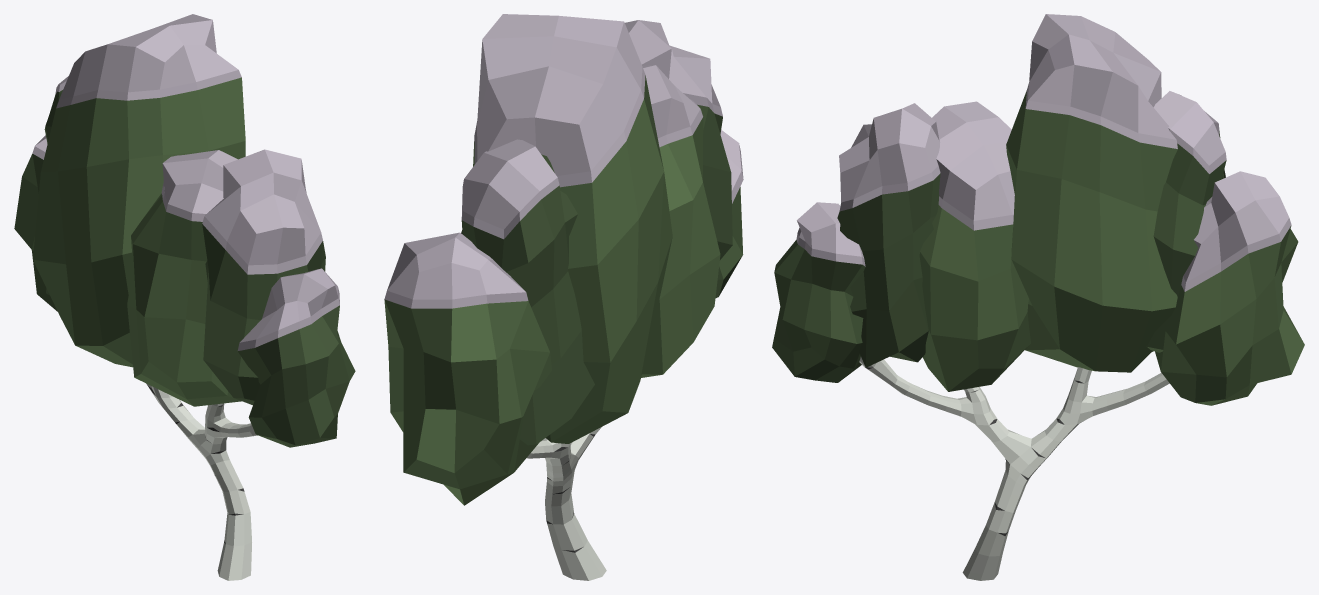
Rendered from birchtree_snow_4.glb.
3 renders of one model, left to right at view 1: azimuth 30°, elevation 25°; view 2: azimuth 150°, elevation 25°; view 3: azimuth 270°, elevation 25°, orthographic. The views are drawn at different scales.
Parts seen in each view (by area): view 1: BirchTree_Snow_4; view 2: BirchTree_Snow_4; view 3: BirchTree_Snow_4.
Part boxes in pixels (<box>): BirchTree_Snow_4: <box>14,14,355,580</box>; BirchTree_Snow_4: <box>384,14,743,580</box>; BirchTree_Snow_4: <box>772,14,1304,580</box>.
Bounding box in the file's own units: 2.88 × 9 × 8.22.
